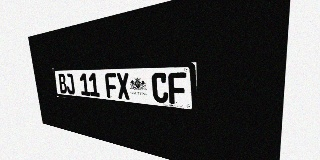1: (88, 73, 100, 97), (79, 73, 90, 96)
B: (58, 74, 67, 94)
C: (151, 72, 169, 103)
F: (168, 72, 187, 105), (105, 73, 118, 99)
J: (65, 73, 75, 95)
X: (116, 73, 130, 100)
